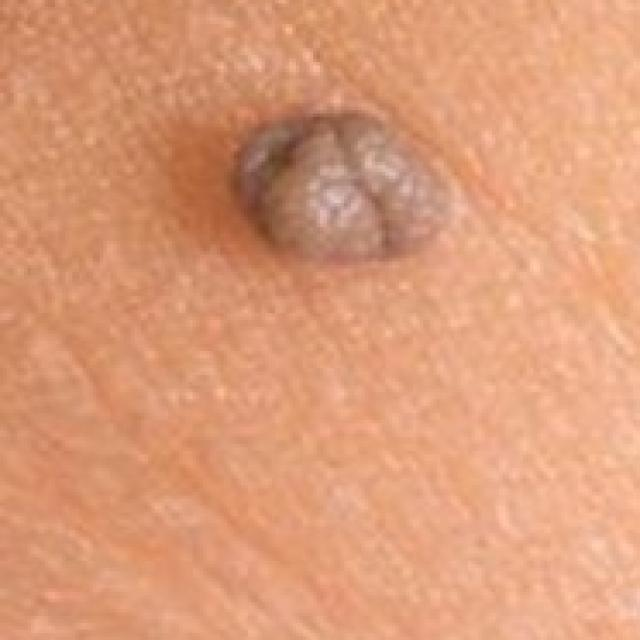wart: (228, 106, 458, 268)
